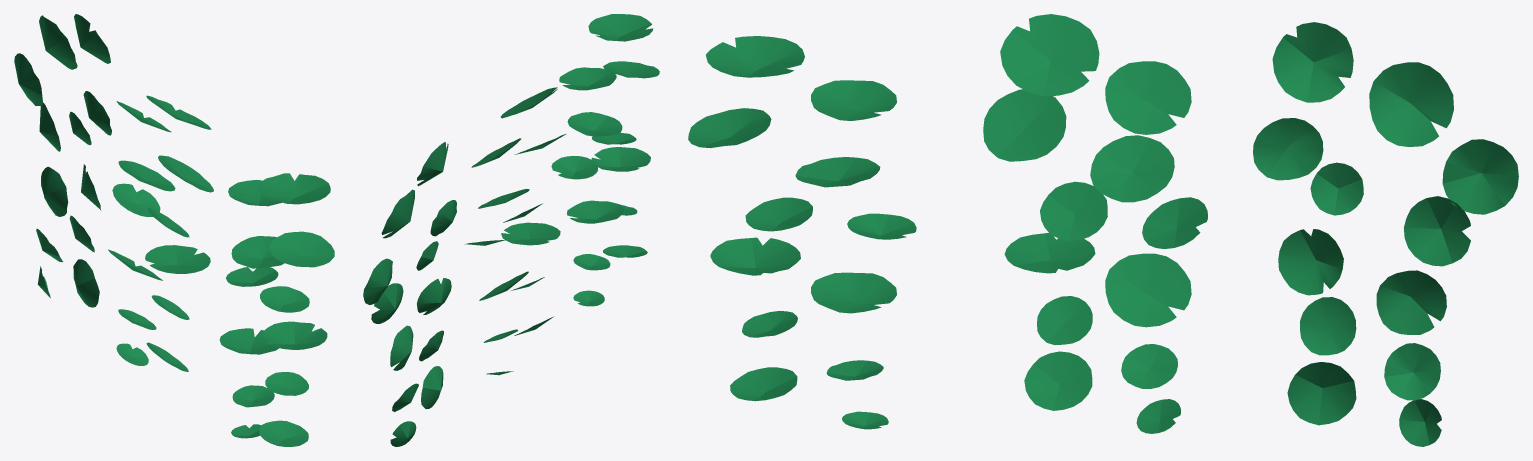
The model's file is plant_mushroom_wall_showcase.fbx.
3 views of the same model, side by side, from view 1: azimuth 30°, elevation 25°; view 2: azimuth 150°, elevation 25°; view 3: azimuth 270°, elevation 25° (orthographic). The views are drawn at different scales.
Visible parts, largest first — view 1: plant_mushroom_leaf_A6, plant_mushroom_leaf_C_chip, plant_mushroom_leaf_C_chip1, plant_mushroom_leaf_C_chip6, plant_mushroom_leaf_B, plant_mushroom_leaf_A_chip1, plant_mushroom_leaf_A_chip3, plant_mushroom_leaf_C, plant_mushroom_leaf_C7, plant_mushroom_leaf_B_chip6, plant_mushroom_leaf_A_chip2, plant_mushroom_leaf_C2 (+22 smaller); view 2: plant_mushroom_leaf_C_chip, plant_mushroom_leaf_C_chip6, plant_mushroom_leaf_C_chip1, plant_mushroom_leaf_A_chip1, plant_mushroom_leaf_A_chip, plant_mushroom_leaf_B, plant_mushroom_leaf_B_chip, plant_mushroom_leaf_B3, plant_mushroom_leaf_C_chip3, plant_mushroom_leaf_A_chip3, plant_mushroom_leaf_B_chip3, plant_mushroom_leaf_A_chip2 (+16 smaller); view 3: plant_mushroom_leaf_C_chip8, plant_mushroom_leaf_A_chip3, plant_mushroom_leaf_A_chip7, plant_mushroom_leaf_A_chip8, plant_mushroom_leaf_C_chip2, plant_mushroom_leaf_A7, plant_mushroom_leaf_B3, plant_mushroom_leaf_B8, plant_mushroom_leaf_B_chip3, plant_mushroom_leaf_A_chip2, plant_mushroom_leaf_A2, plant_mushroom_leaf_C2 (+23 smaller).
Boxes of the visible parts, box(x1,y1,x2,y2) form: plant_mushroom_leaf_A6: box(269, 231, 334, 267); plant_mushroom_leaf_C_chip: box(258, 173, 330, 204); plant_mushroom_leaf_C_chip1: box(145, 245, 210, 273); plant_mushroom_leaf_C_chip6: box(262, 321, 327, 349); plant_mushroom_leaf_B: box(231, 236, 284, 268); plant_mushroom_leaf_A_chip1: box(219, 328, 278, 354); plant_mushroom_leaf_A_chip3: box(39, 15, 77, 69); plant_mushroom_leaf_C: box(260, 286, 309, 312); plant_mushroom_leaf_C7: box(259, 420, 308, 446); plant_mushroom_leaf_B_chip6: box(112, 183, 160, 216); plant_mushroom_leaf_A_chip2: box(41, 166, 68, 216); plant_mushroom_leaf_C2: box(73, 259, 99, 307); plant_mushroom_leaf_C_chip: box(588, 14, 653, 41); plant_mushroom_leaf_C_chip6: box(591, 147, 650, 171); plant_mushroom_leaf_C_chip1: box(501, 222, 560, 245); plant_mushroom_leaf_A_chip1: box(567, 200, 624, 223); plant_mushroom_leaf_A_chip: box(559, 67, 616, 90); plant_mushroom_leaf_B: box(567, 112, 622, 136); plant_mushroom_leaf_B_chip: box(551, 156, 597, 179); plant_mushroom_leaf_B3: box(363, 258, 392, 304); plant_mushroom_leaf_C_chip3: box(417, 278, 451, 314); plant_mushroom_leaf_A_chip3: box(381, 189, 414, 238); plant_mushroom_leaf_B_chip3: box(371, 283, 403, 323); plant_mushroom_leaf_A_chip2: box(390, 325, 413, 370); plant_mushroom_leaf_C_chip8: box(1000, 14, 1099, 96); plant_mushroom_leaf_A_chip3: box(1369, 62, 1453, 146); plant_mushroom_leaf_A_chip7: box(1105, 61, 1191, 134); plant_mushroom_leaf_A_chip8: box(1105, 253, 1191, 327); plant_mushroom_leaf_C_chip2: box(1272, 22, 1353, 102); plant_mushroom_leaf_A7: box(983, 89, 1066, 161); plant_mushroom_leaf_B3: box(1442, 139, 1518, 214); plant_mushroom_leaf_B8: box(1090, 135, 1174, 202); plant_mushroom_leaf_B_chip3: box(1404, 196, 1470, 266); plant_mushroom_leaf_A_chip2: box(1376, 270, 1446, 334); plant_mushroom_leaf_A2: box(1253, 118, 1323, 180); plant_mushroom_leaf_C2: box(1287, 362, 1356, 425).
Size of the model in its own units: 37.43 by 163 by 292.
